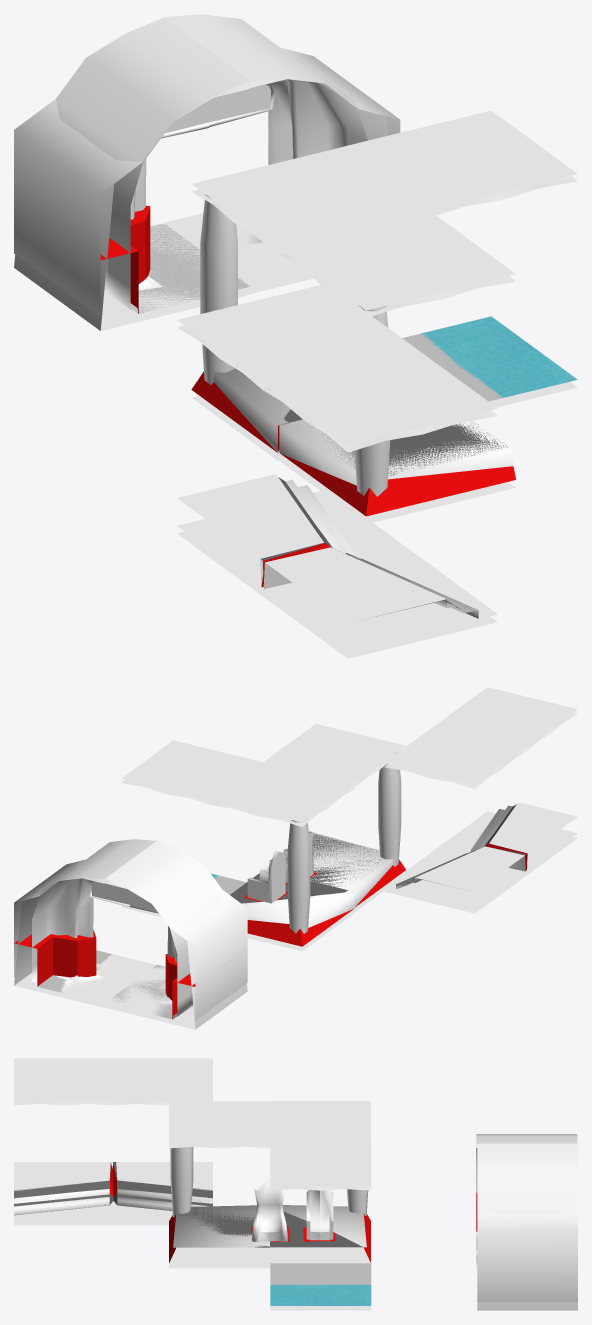
The model's file is IcePalace.obj.
3 views of the same model, one above another, from view 1: azimuth 30°, elevation 25°; view 2: azimuth 150°, elevation 25°; view 3: azimuth 270°, elevation 25° (orthographic). The views are drawn at different scales.
Visible parts, largest first — view 1: WallBox, Black, RoofBox.002, RoofBox, RoofBox.001, RoofBox.004, RoofBox.003, Wall.001, ThroneLF, Wok.004, ThroneRF, Floor.003 (+18 smaller); view 2: WallBox, Wall.001, Black, RoofBox, RoofBox.001, RoofBox.002, RoofBox.003, RoofBox.004, WallBox.001, ThroneRR.001, Wall, Wok.001 (+17 smaller); view 3: Black.001, WallBox.001, RoofBox, RoofBox.001, RoofBox.002, RoofBox.003, RoofBox.004, ThroneRF, ThroneLF, ThroneRR.001, Wok.002, Floor (+20 smaller).
Boxes of the visible parts, bbox=[...] form: WallBox: bbox=[14, 17, 250, 330]; Black: bbox=[14, 99, 141, 316]; RoofBox.002: bbox=[280, 210, 515, 310]; RoofBox: bbox=[341, 110, 577, 210]; RoofBox.001: bbox=[192, 147, 427, 247]; RoofBox.004: bbox=[177, 283, 413, 383]; RoofBox.003: bbox=[262, 346, 497, 444]; Wall.001: bbox=[164, 77, 367, 286]; ThroneLF: bbox=[177, 474, 354, 587]; Wok.004: bbox=[280, 420, 515, 516]; ThroneRF: bbox=[263, 547, 478, 623]; Floor.003: bbox=[261, 552, 497, 650]; WallBox: bbox=[105, 840, 247, 1029]; Wall.001: bbox=[32, 877, 156, 1003]; Black: bbox=[170, 890, 247, 1020]; RoofBox: bbox=[121, 740, 263, 800]; RoofBox.001: bbox=[212, 762, 354, 822]; RoofBox.002: bbox=[264, 724, 405, 783]; RoofBox.003: bbox=[436, 687, 577, 747]; RoofBox.004: bbox=[384, 724, 525, 784]; WallBox.001: bbox=[14, 839, 155, 1007]; ThroneRR.001: bbox=[264, 833, 393, 906]; Wall: bbox=[105, 880, 192, 1019]; Wok.001: bbox=[14, 929, 112, 992]; Black.001: bbox=[477, 1206, 577, 1302]; WallBox.001: bbox=[477, 1143, 577, 1310]; RoofBox: bbox=[270, 1143, 371, 1186]; RoofBox.001: bbox=[270, 1101, 370, 1143]; RoofBox.002: bbox=[169, 1101, 269, 1143]; RoofBox.003: bbox=[14, 1058, 114, 1100]; RoofBox.004: bbox=[112, 1058, 212, 1100]; ThroneRF: bbox=[14, 1162, 110, 1214]; ThroneLF: bbox=[116, 1162, 212, 1210]; ThroneRR.001: bbox=[173, 1205, 269, 1247]; Wok.002: bbox=[270, 1263, 371, 1285]; Floor: bbox=[270, 1284, 371, 1305].
Size of the model in its own units: 30 by 13.6 by 55.94.
